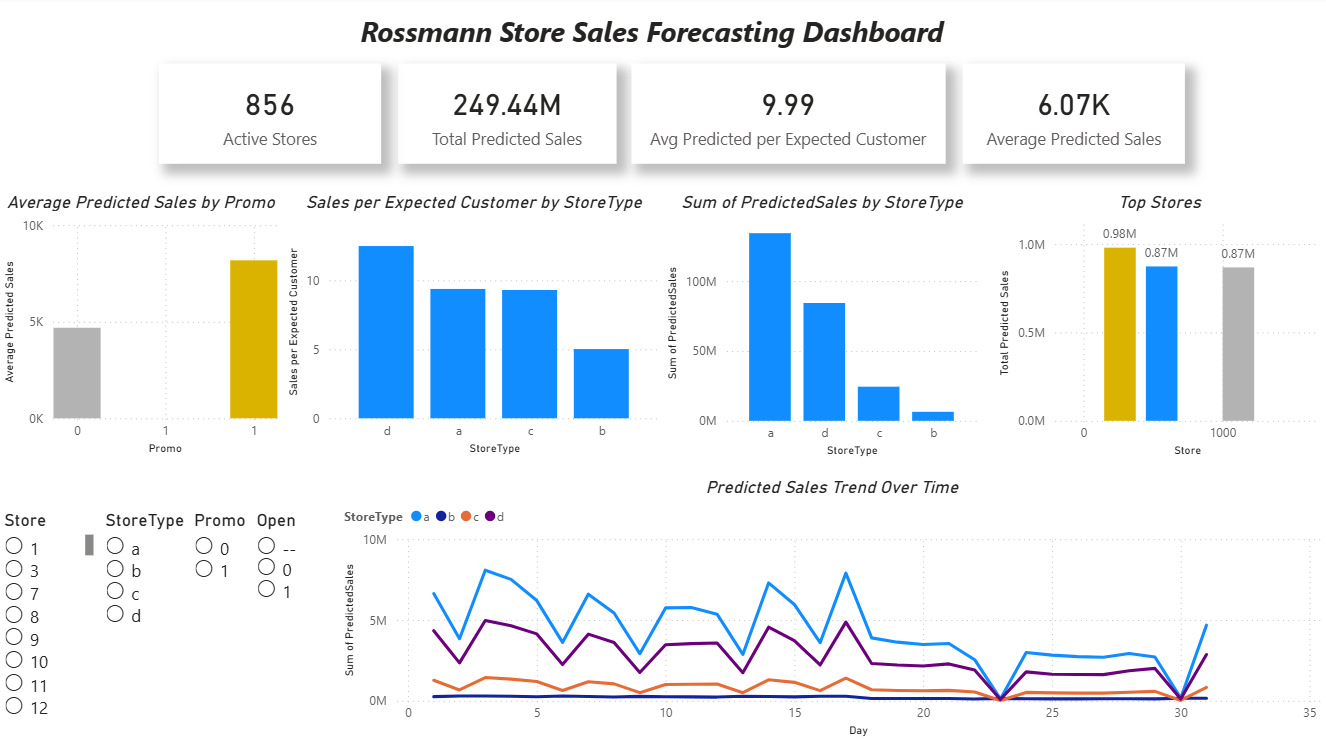

This screenshot's page, from the dashboard's own definition file:
{"tool":"powerbi","page":{"name":"Page 1","canvas":[1280,720],"ordinal":0},"visuals":[{"type":"textbox","box":[344.4,11,590.1,59],"z":0},{"type":"card","fields":{"Values":["Sum(dashboard_data.PredictedSales)"]},"box":[384.9,64.9,211.1,97],"z":1000},{"type":"card","fields":{"Values":["dashboard_data.Avg Predicted per Expected Customer"]},"box":[611,65,294.5,96.9],"z":2000},{"type":"card","fields":{"Values":["dashboard_data.Active Stores"]},"box":[154.9,65.2,214.7,96.5],"z":3000},{"type":"card","fields":{"Values":["Avg(dashboard_data.PredictedSales)"]},"box":[930.6,65.2,214.7,96.5],"z":4000},{"type":"clusteredColumnChart","title":"How Promo wil affect sales?","fields":{"Category":["dashboard_data.Promo"],"Y":["Median(dashboard_data.PredictedSales)"]},"box":[0,188.2,273.9,259.4],"z":5000},{"type":"slicer","fields":{"Values":["dashboard_data.Store"]},"box":[0,495.7,137.4,212.3],"z":6000},{"type":"listSlicer","fields":{"Values":["dashboard_data.Open"]},"box":[261.4,495.7,60.1,106.7],"z":8000},{"type":"clusteredColumnChart","title":"Sales Forecast Across Store Types","fields":{"Y":["Median(dashboard_data.PredictedSales)"],"Category":["dashboard_data.StoreType"]},"box":[640.5,187.7,310.4,262.6],"z":9000},{"type":"listSlicer","fields":{"Values":["dashboard_data.StoreType"]},"box":[154.6,495.7,106.7,224.5],"z":10000},{"type":"lineChart","title":"Predicted Sales Trend Over Time","fields":{"Category":["DateTable.Date.Variation.Date Hierarchy.Year","DateTable.Date.Variation.Date Hierarchy.Quarter","DateTable.Date.Variation.Date Hierarchy.Month","DateTable.Date.Variation.Date Hierarchy.Day"],"Y":["Sum(dashboard_data.PredictedSales)"],"Series":["dashboard_data.StoreType"]},"box":[328.2,463.3,951.9,257],"z":11000},{"type":"clusteredColumnChart","fields":{"Y":["dashboard_data.Sales per Expected Customer"],"Category":["dashboard_data.StoreType"]},"box":[283.5,188.2,343.8,259.4],"z":12000},{"type":"clusteredColumnChart","title":"Top Stores (Sales forecast)","fields":{"Category":["dashboard_data.Store"],"Y":["Sum(dashboard_data.PredictedSales)"]},"box":[961.5,188.2,318.5,261.8],"z":13000}]}

Visuals, with their boxes in screenshot pixels (x1, y1, x2, y2), scaled from the page's 1280x720 canvas onto the 1326x739 screenshot:
textbox: detection(357, 11, 968, 72)
card - Sum(dashboard_data.PredictedSales): detection(399, 67, 617, 166)
card - dashboard_data.Avg Predicted per Expected Customer: detection(633, 67, 938, 166)
card - dashboard_data.Active Stores: detection(160, 67, 383, 166)
card - Avg(dashboard_data.PredictedSales): detection(964, 67, 1186, 166)
"How Promo wil affect sales?" clusteredColumnChart: detection(0, 193, 284, 459)
slicer - dashboard_data.Store: detection(0, 509, 142, 727)
listSlicer - dashboard_data.Open: detection(271, 509, 333, 618)
"Sales Forecast Across Store Types" clusteredColumnChart: detection(664, 193, 985, 462)
listSlicer - dashboard_data.StoreType: detection(160, 509, 271, 738)
"Predicted Sales Trend Over Time" lineChart: detection(340, 476, 1325, 738)
clusteredColumnChart - dashboard_data.Sales per Expected Customer x dashboard_data.StoreType: detection(294, 193, 650, 459)
"Top Stores (Sales forecast)" clusteredColumnChart: detection(996, 193, 1325, 462)
